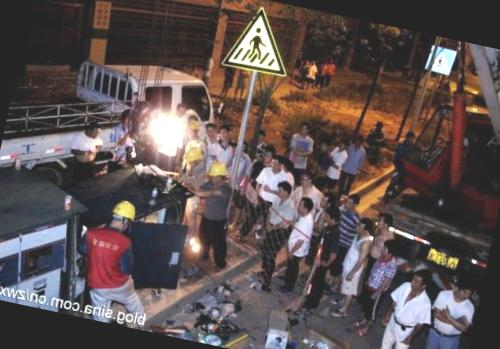no_helmet: (406, 264, 434, 294), (451, 276, 478, 304), (376, 236, 402, 262), (294, 167, 318, 192), (81, 118, 104, 142), (374, 209, 397, 233), (342, 190, 366, 213), (322, 201, 344, 226), (273, 180, 297, 202), (215, 122, 237, 146), (316, 188, 336, 212), (296, 194, 317, 216), (266, 152, 288, 173), (356, 216, 376, 236), (172, 98, 190, 120), (403, 128, 419, 146), (298, 120, 314, 137)
